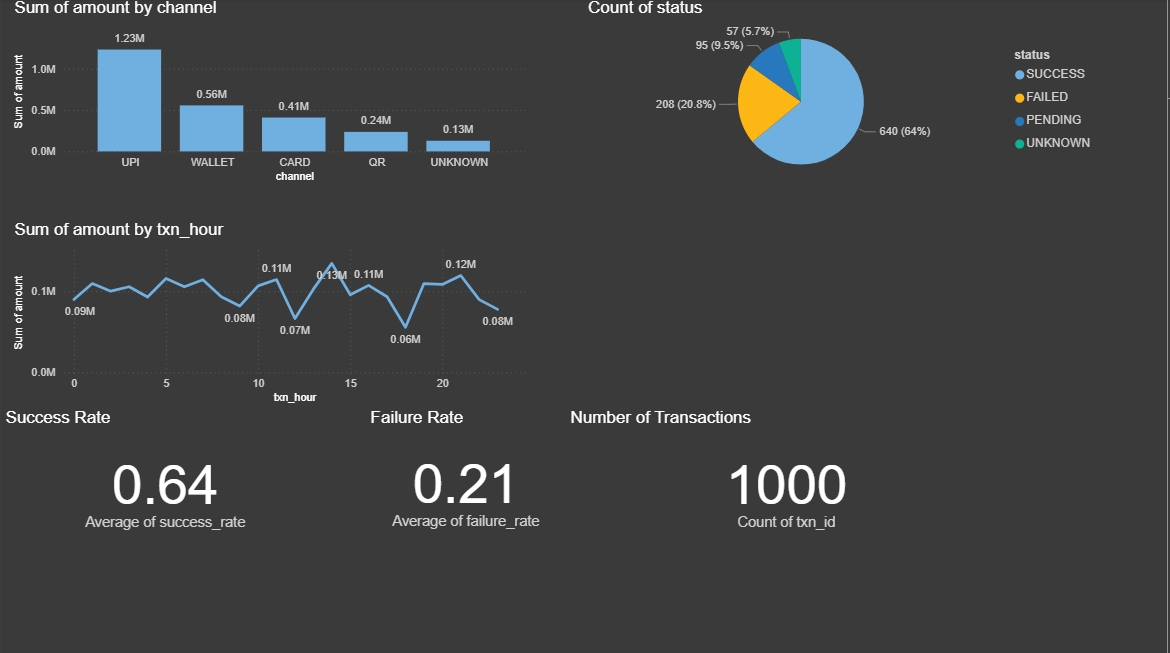

Layout of this report page (visuals, bound fields, positions):
{"tool":"powerbi","page":{"name":"Page 1","canvas":[1280,720],"ordinal":0},"visuals":[{"type":"clusteredColumnChart","fields":{"Y":["Sum(cleaned_transactions.amount)"],"Category":["cleaned_transactions.channel"]},"box":[9.6,0,570.8,207.2],"z":0},{"type":"pieChart","title":"Count of status ","fields":{"Category":["cleaned_transactions.status"],"Y":["CountNonNull(cleaned_transactions.status)"]},"box":[639.5,0,570.8,207.2],"z":1000},{"type":"lineChart","fields":{"Y":["Sum(cleaned_transactions.amount)"],"Category":["cleaned_transactions.txn_hour"]},"box":[10,243.5,571,207],"z":2000},{"type":"card","title":"Success Rate","fields":{"Values":["Avg(cleaned_transactions.success_rate)"]},"box":[0,450.1,360.9,155.1],"z":3000},{"type":"card","title":"Failure Rate","fields":{"Values":["Avg(cleaned_transactions.failure_rate)"]},"box":[400.7,450.1,219.6,153.7],"z":4000},{"type":"card","title":"Number of Transactions","fields":{"Values":["Count(cleaned_transactions.txn_id)"]},"box":[620.2,450.1,484.4,155.1],"z":5000}]}

Visuals, with their boxes in screenshot pixels (x1, y1, x2, y2), scaled from the page's 1280x720 canvas onto the 1170x653 screenshot:
clusteredColumnChart - Sum(cleaned_transactions.amount) x cleaned_transactions.channel: 9,0,531,188
"Count of status " pieChart: 585,0,1106,188
lineChart - Sum(cleaned_transactions.amount) x cleaned_transactions.txn_hour: 9,221,531,409
"Success Rate" card: 0,408,330,549
"Failure Rate" card: 366,408,567,548
"Number of Transactions" card: 567,408,1010,549
